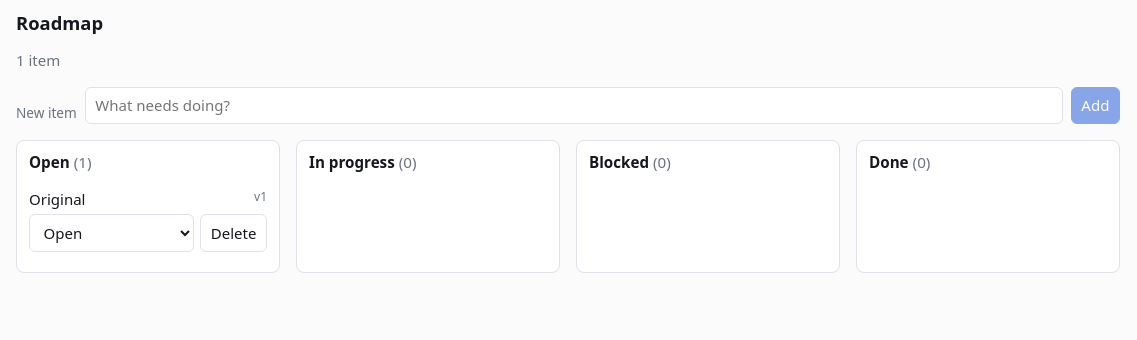
Test: BoardView › recovers from a version conflict by reloading and explaining
Expected: the text "Original" is shown, [29, 189, 85, 209]
Select "Done" in the dropdown named "Status for Original" at point(111, 233), box [29, 214, 194, 252]
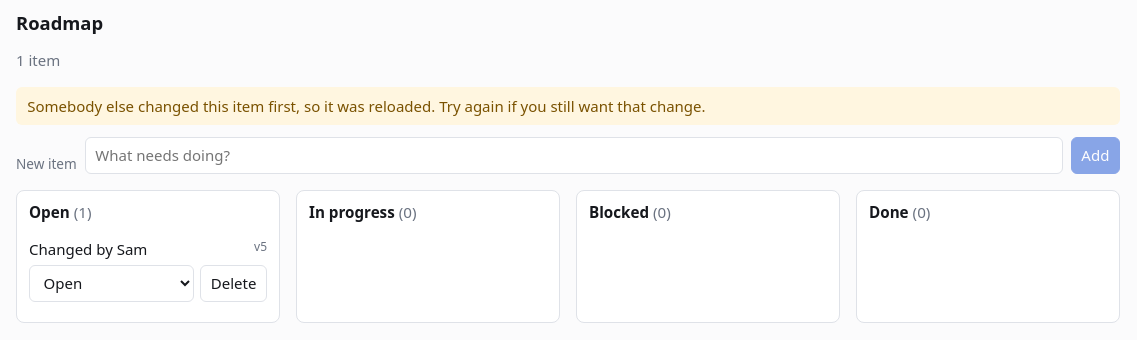
Expected: the text "changed this item first" is shown, [27, 96, 706, 116]
Expected: the text "Changed by Sam" is shown, [29, 239, 147, 259]
